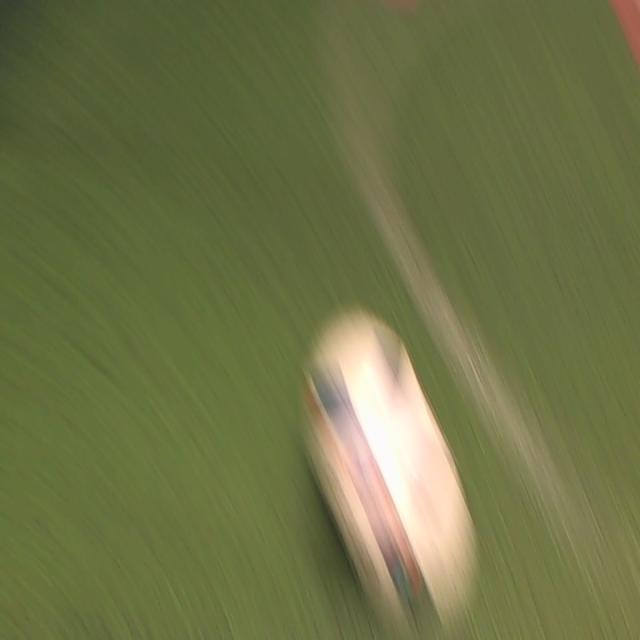ball: (302, 310, 479, 628)
